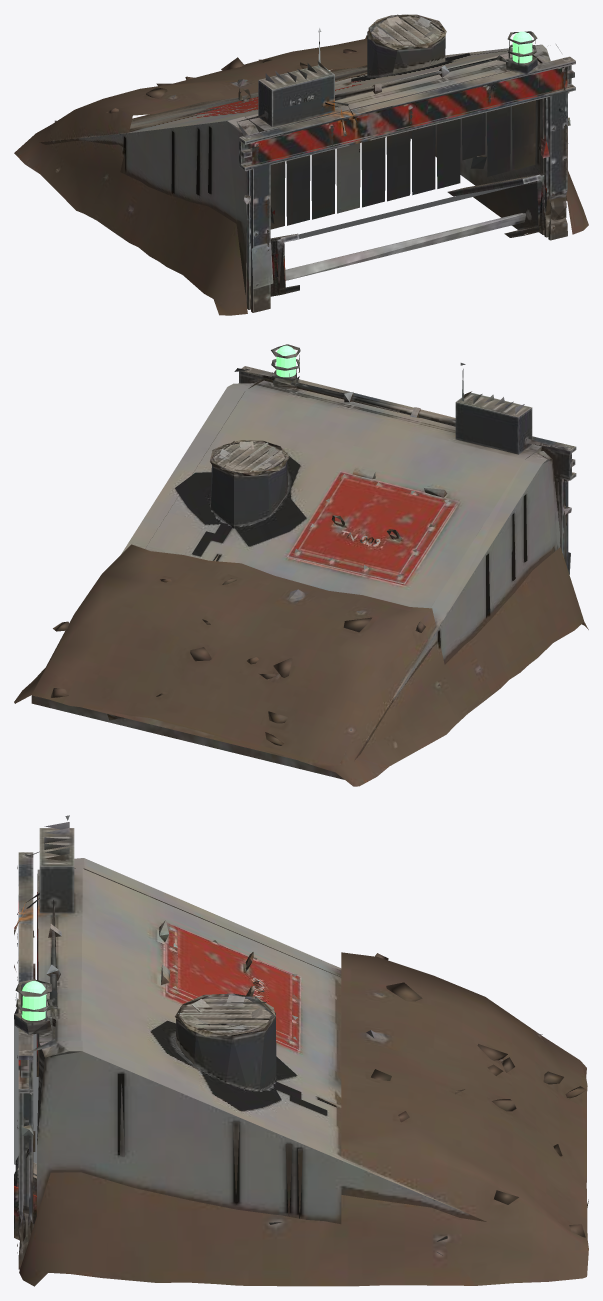
The model's file is esteira_tunel_entrada_rapida.glb.
3 views of the same model, one above another, from view 1: azimuth 30°, elevation 25°; view 2: azimuth 150°, elevation 25°; view 3: azimuth 270°, elevation 25° (orthographic). The views are drawn at different scales.
Parts seen in each view (by area): view 1: esteira_tunel_entrada_rapida_corpo; view 2: esteira_tunel_entrada_rapida_corpo; view 3: esteira_tunel_entrada_rapida_corpo.
Boxes of the visible parts, x1,y1,x2,y2 form: esteira_tunel_entrada_rapida_corpo: (14, 14, 588, 315); esteira_tunel_entrada_rapida_corpo: (14, 344, 588, 786); esteira_tunel_entrada_rapida_corpo: (14, 815, 588, 1286).
Bounding box in the file's own units: 0.9415 × 0.6062 × 1.
Materials: 4 (1 with a texture image).
